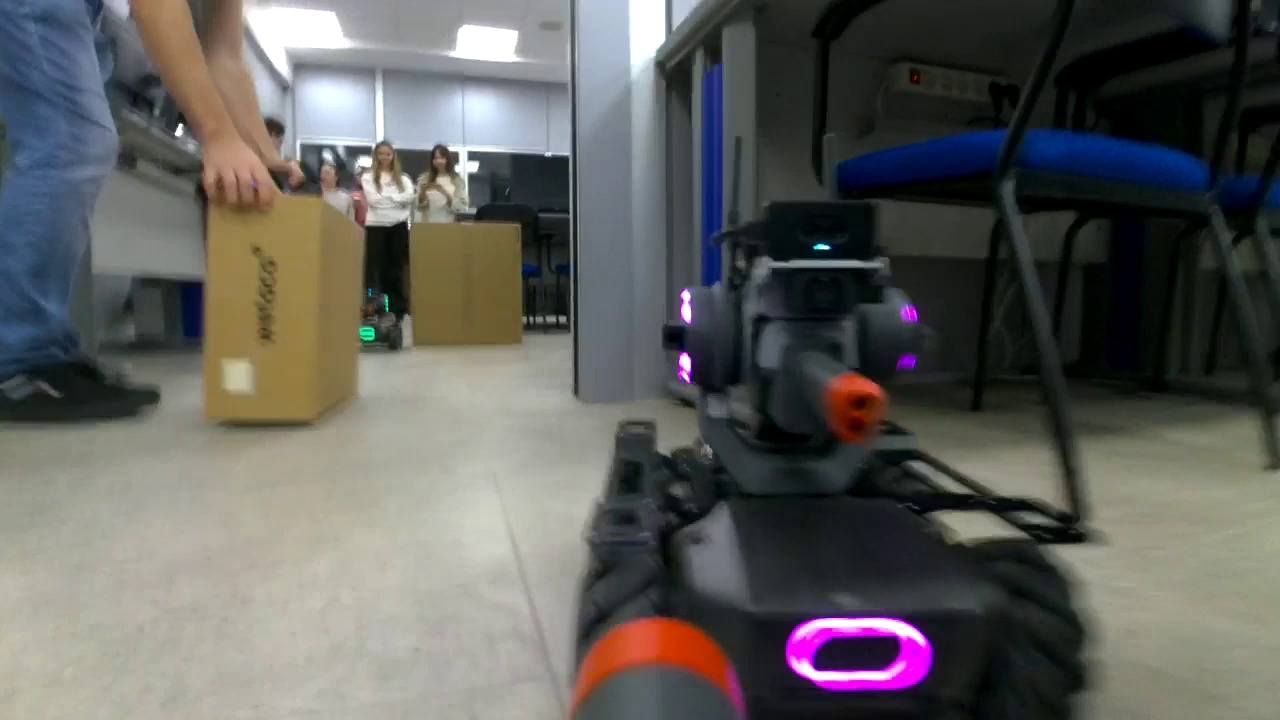robot: (581, 197, 1098, 720)
